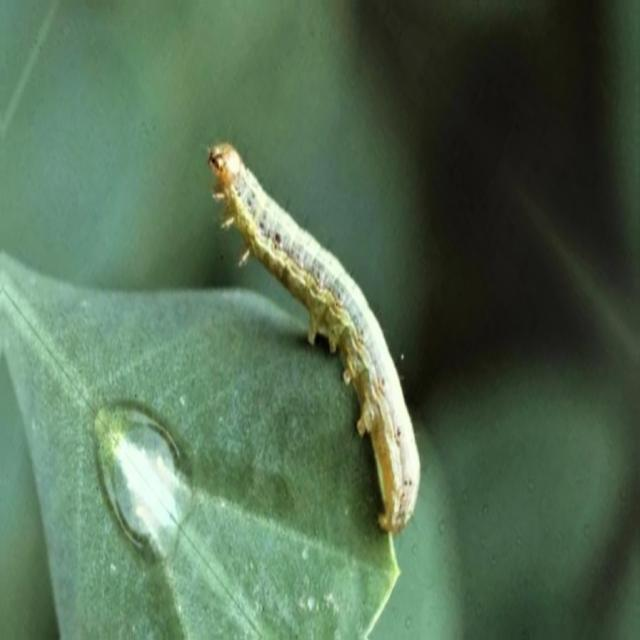Armyworm: (202, 113, 452, 563)
